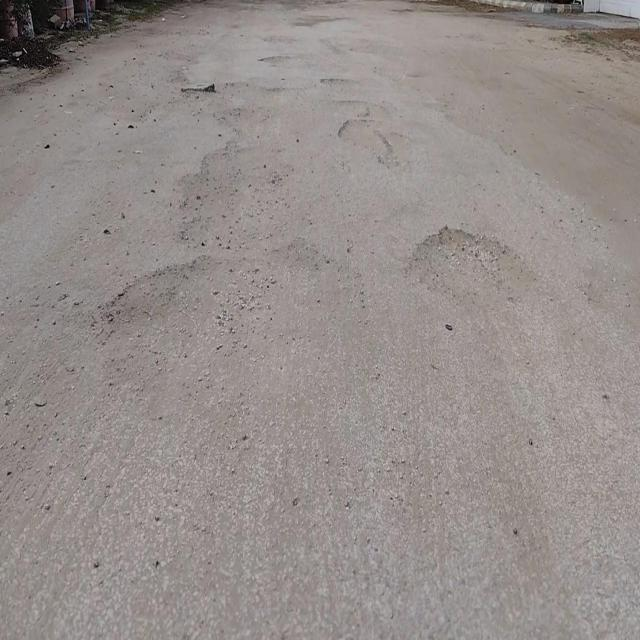Potholes: (405, 222, 534, 308), (336, 115, 394, 169)
